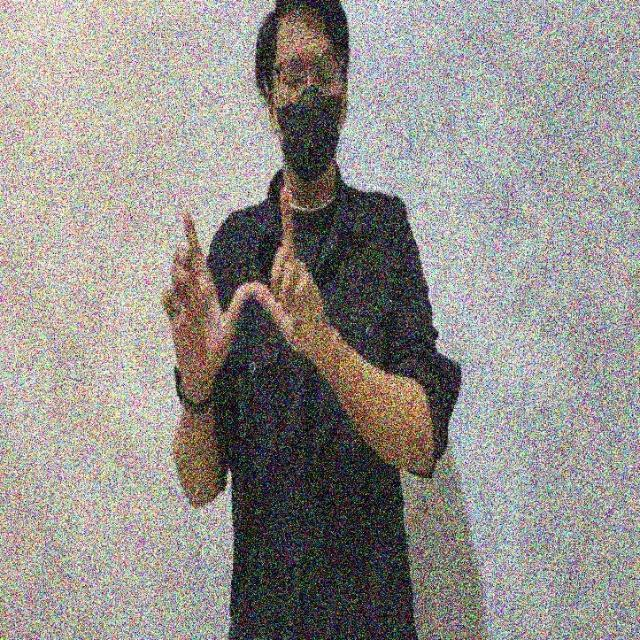W: (120, 188, 336, 385)
